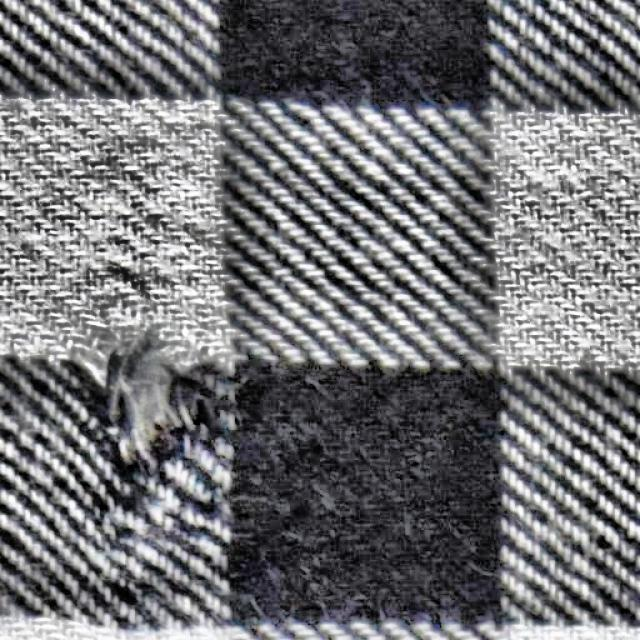Stitch: (65, 320, 223, 620)
